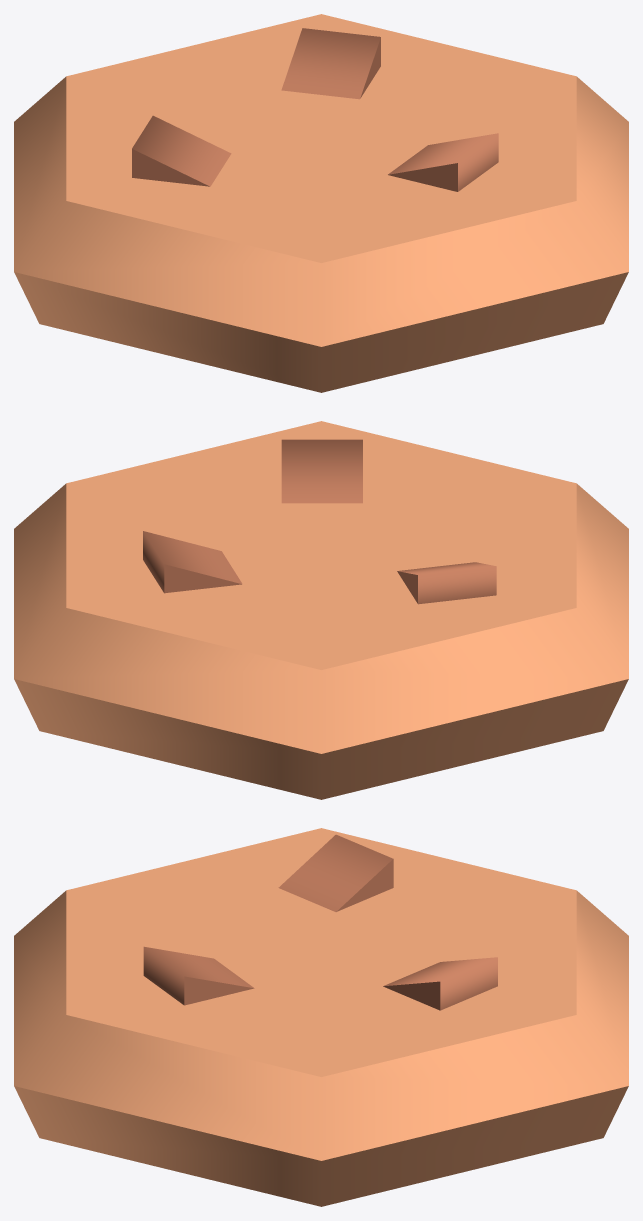
The model's file is cookie.GLB.
The picture shows the model from 3 angles, top to bottom: view 1: azimuth 30°, elevation 25°; view 2: azimuth 150°, elevation 25°; view 3: azimuth 270°, elevation 25°; orthographic projection.
Parts seen in each view (by area): view 1: cookie; view 2: cookie; view 3: cookie.
Part boxes in pixels (bbox=[...]): cookie: bbox=[14, 14, 628, 392]; cookie: bbox=[14, 421, 628, 799]; cookie: bbox=[14, 828, 628, 1206].
Bounding box in the file's own units: 0.2197 × 0.0498 × 0.1903.
